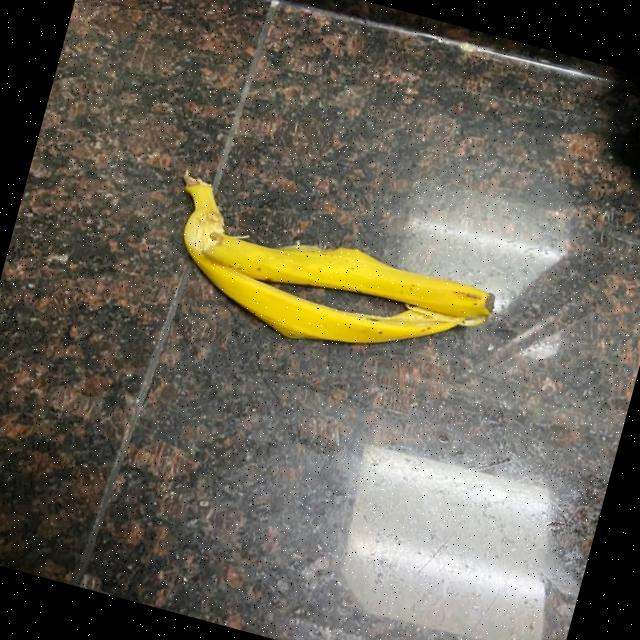banana-peel: (147, 166, 508, 387)
